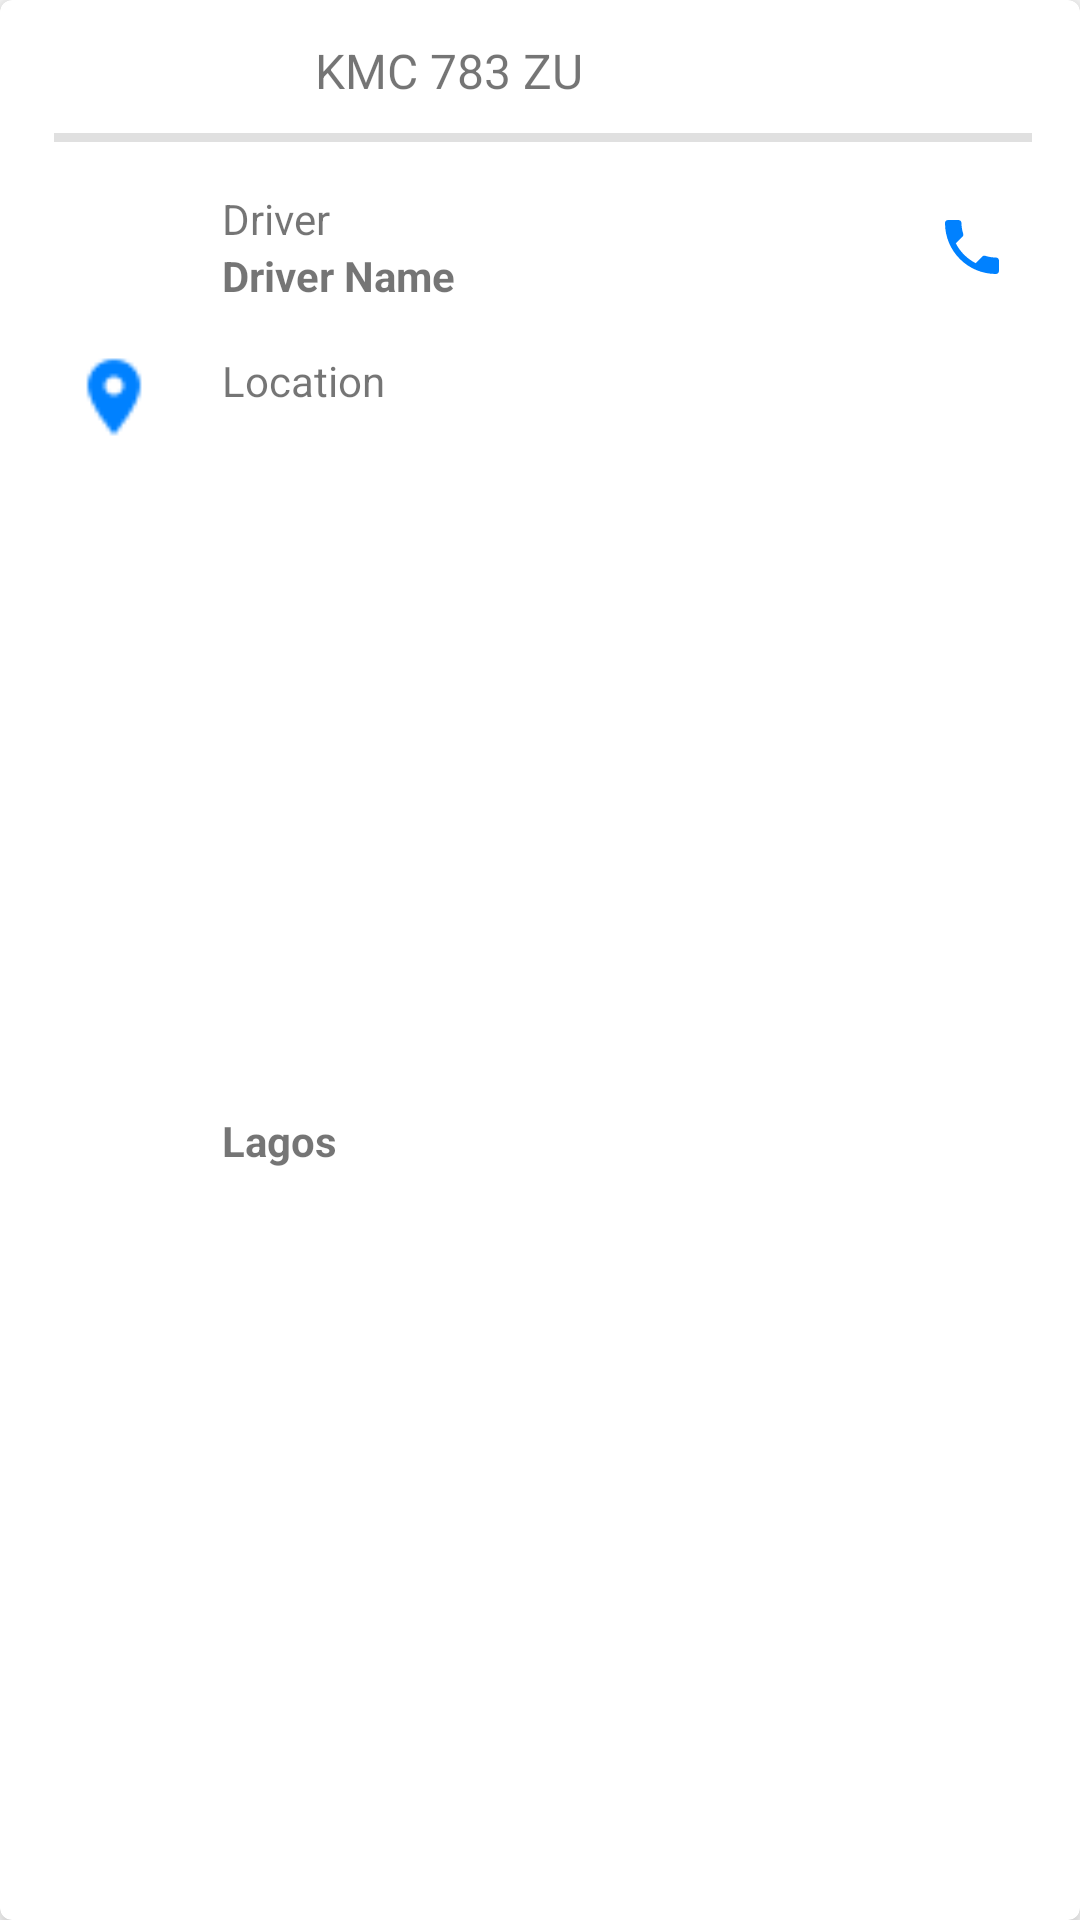

Icon bounding boxes for this 1080 × 1920 phone screenshot, format bbox=[x1, y1, x2, y2]:
marker: bbox=[86, 358, 142, 435]
phone: bbox=[945, 220, 999, 274]
